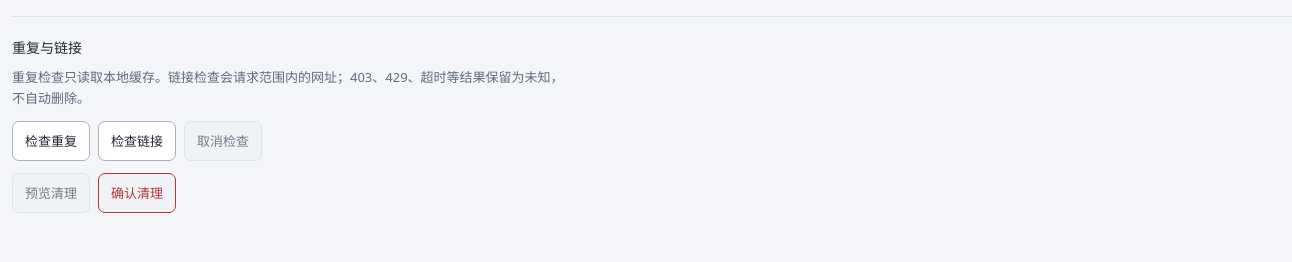
R07 cancels an in-flight link check, rejects its late result and can retry
Click the button "检查链接". click: (137, 141)
box: [98, 121, 176, 161]
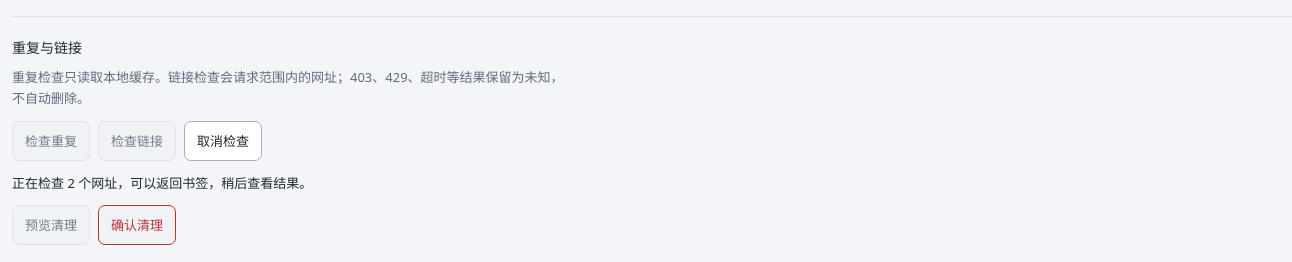
Now the button "取消检查" is enabled
Click the button "取消检查". click: (223, 141)
box: [184, 121, 262, 161]
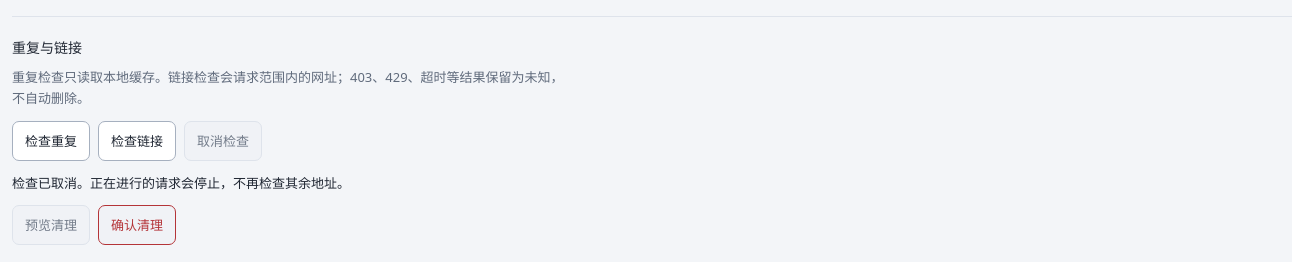
Now the button "检查链接" is enabled, box [98, 121, 176, 161]
